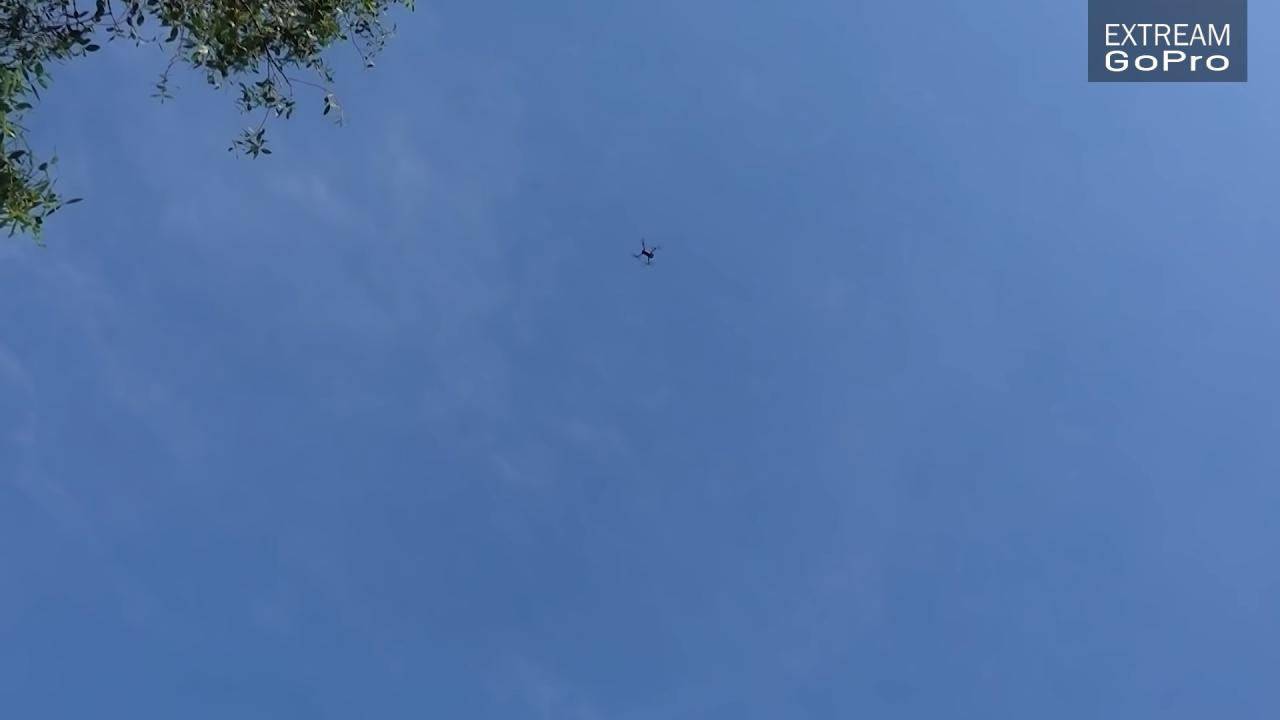Drone: (623, 230, 669, 276)
